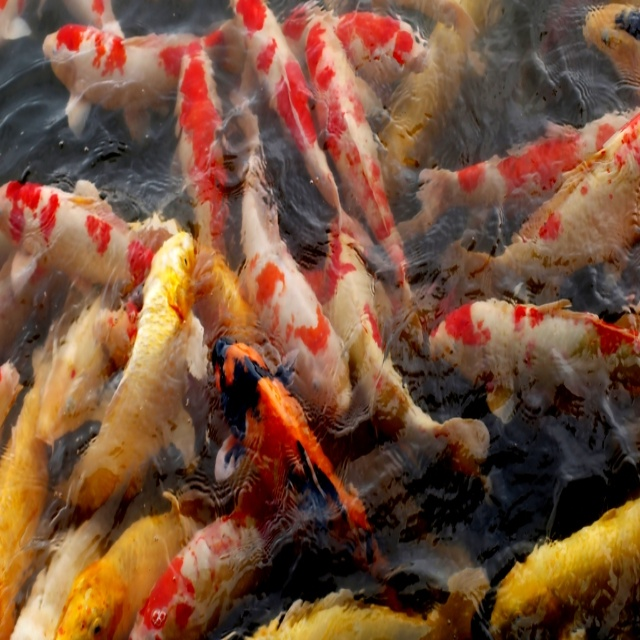Fish: (0, 1, 640, 640)
